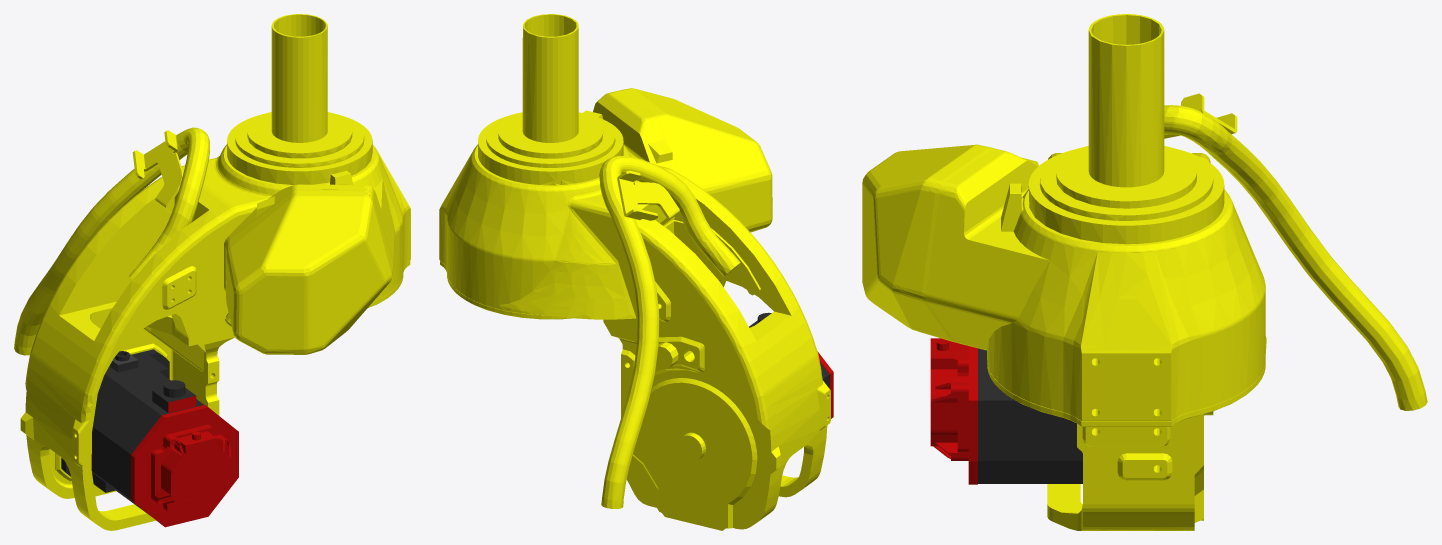
The picture shows the model from 3 angles, left to right: view 1: azimuth 30°, elevation 25°; view 2: azimuth 150°, elevation 25°; view 3: azimuth 270°, elevation 25°; orthographic projection. The views are drawn at different scales.
Parts seen in each view (by area): view 1: node; view 2: node; view 3: node.
Boxes of the visible parts, <box> form: node: <box>14,14,410,530</box>; node: <box>439,14,833,530</box>; node: <box>862,14,1427,530</box>.
Bounding box in the file's own units: 434 × 521 × 456.
